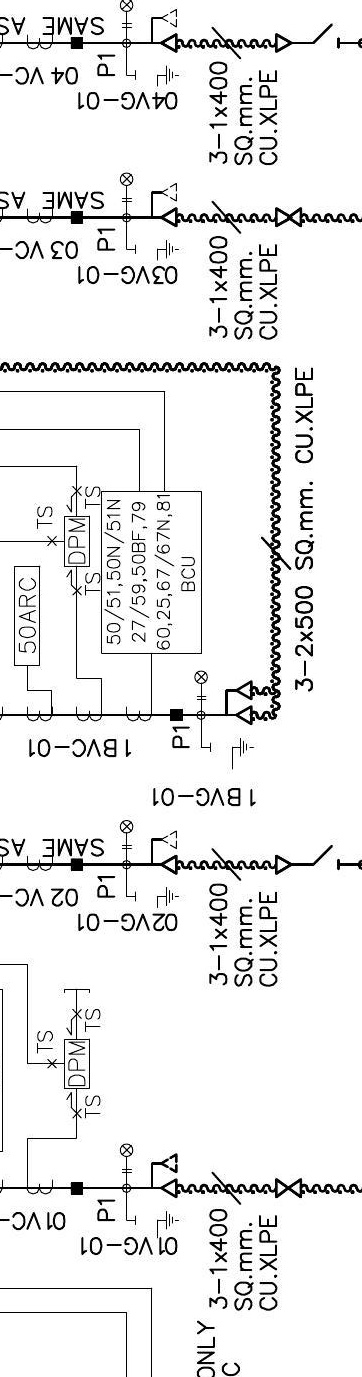22_gs: (208, 736, 254, 770), (133, 1209, 179, 1239), (133, 64, 179, 88), (134, 886, 179, 910), (133, 239, 179, 262)
22_ll: (119, 1143, 134, 1174), (119, 819, 134, 850), (194, 670, 209, 701), (119, 172, 134, 203)
DPM: (63, 1037, 91, 1091), (63, 515, 91, 568)
terminator_double: (224, 679, 253, 726)
terminator_single: (274, 853, 293, 876), (274, 32, 292, 54)
terminator_splicing_kits: (274, 1178, 302, 1199), (274, 207, 302, 228)
terminator_w_future: (149, 1152, 179, 1199), (149, 181, 179, 228), (150, 829, 179, 876), (149, 7, 178, 54)
